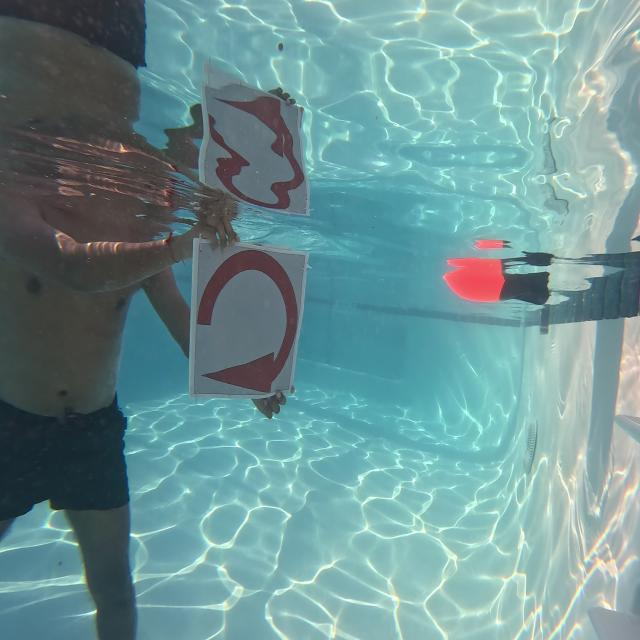red_side: (194, 235, 302, 409)
